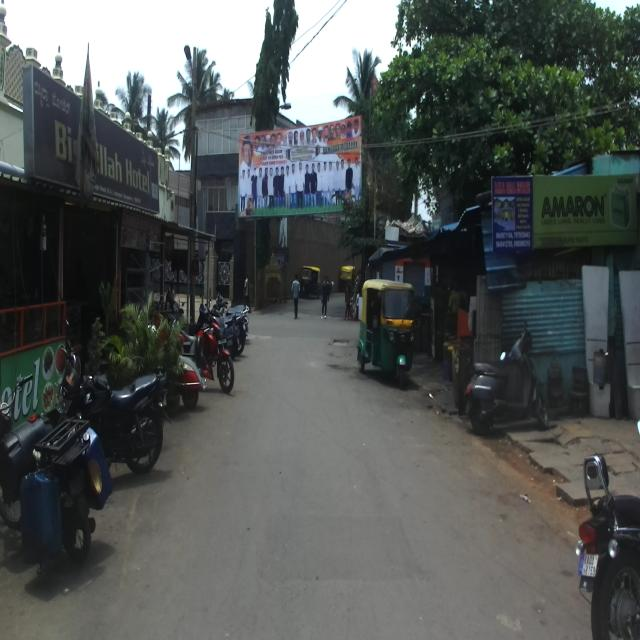auto ahead at: (356, 274, 418, 396)
motorcycle ahead at: (62, 340, 172, 482), (469, 316, 550, 451), (193, 309, 237, 402)
